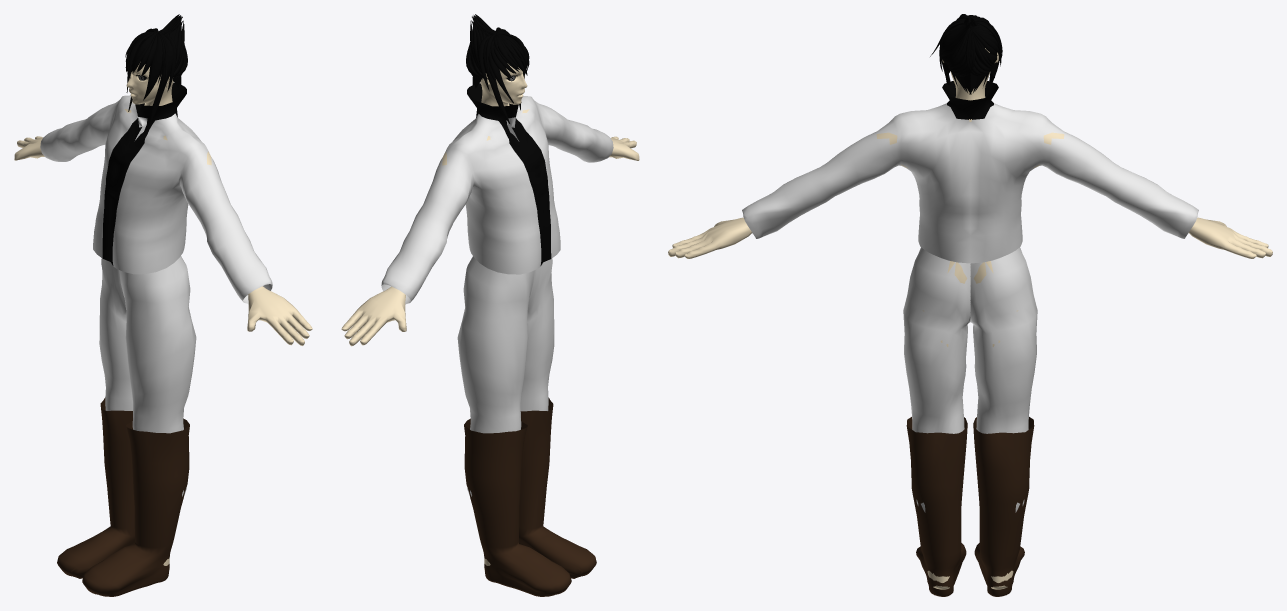
Rendered from Rei.fbx.
The picture shows the model from 3 angles, left to right: view 1: azimuth 30°, elevation 25°; view 2: azimuth 150°, elevation 25°; view 3: azimuth 270°, elevation 25°; orthographic projection. The views are drawn at different scales.
Parts seen in each view (by area): view 1: Cube.001, Cube.003, Cube.002, Cube, NurbsPath.016, NurbsPath.026; view 2: Cube.001, Cube.003, Cube.002, Cube, NurbsPath.016, NurbsPath.026; view 3: Cube.001, Cube.002, Cube.003, Cube, NurbsPath.025, NurbsPath.026, NurbsPath.016.
Part boxes in pixels (x1,y1,x2,y2): Cube.001: (40, 83, 272, 304); Cube.003: (57, 397, 189, 596); Cube.002: (99, 256, 196, 496); Cube: (14, 62, 312, 570); NurbsPath.016: (125, 28, 176, 122); NurbsPath.026: (157, 14, 184, 77); Cube.001: (381, 83, 613, 304); Cube.003: (464, 398, 596, 596); Cube.002: (457, 256, 554, 496); Cube: (341, 63, 639, 570); NurbsPath.016: (478, 27, 529, 123); NurbsPath.026: (470, 14, 496, 78); Cube.001: (742, 81, 1198, 263); Cube.002: (903, 247, 1037, 512); Cube.003: (906, 417, 1034, 596); Cube: (668, 48, 1272, 589); NurbsPath.025: (946, 26, 994, 76); NurbsPath.026: (941, 18, 999, 63); NurbsPath.016: (930, 14, 1002, 85).
Size of the model in its own units: 72.68 by 17.1 by 78.6.
